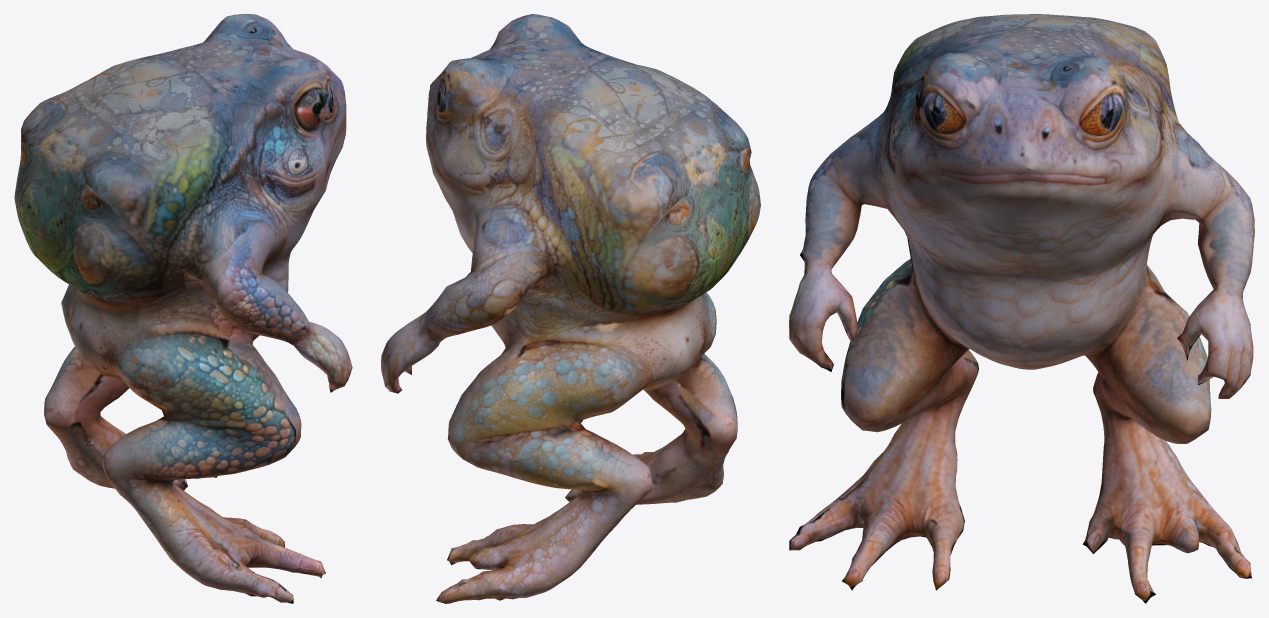
Rendered from frog2.glb.
3 views of the same model, side by side, from view 1: azimuth 30°, elevation 25°; view 2: azimuth 150°, elevation 25°; view 3: azimuth 270°, elevation 25° (orthographic). The views are drawn at different scales.
Size of the model in its own units: 0.7824 by 1.2 by 0.9333.
1 material, 1 textured.
